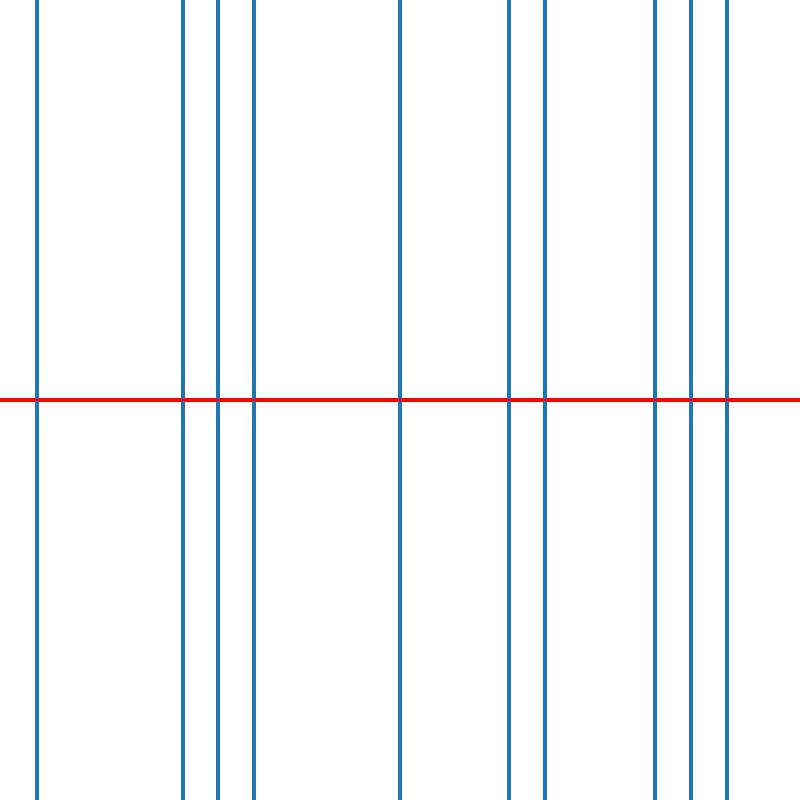root: (250, 396, 258, 404), (650, 396, 658, 404), (541, 396, 549, 404), (32, 396, 40, 404), (396, 396, 403, 404), (178, 396, 185, 404), (723, 396, 730, 404), (505, 396, 512, 404), (214, 396, 221, 404), (687, 396, 694, 404)
